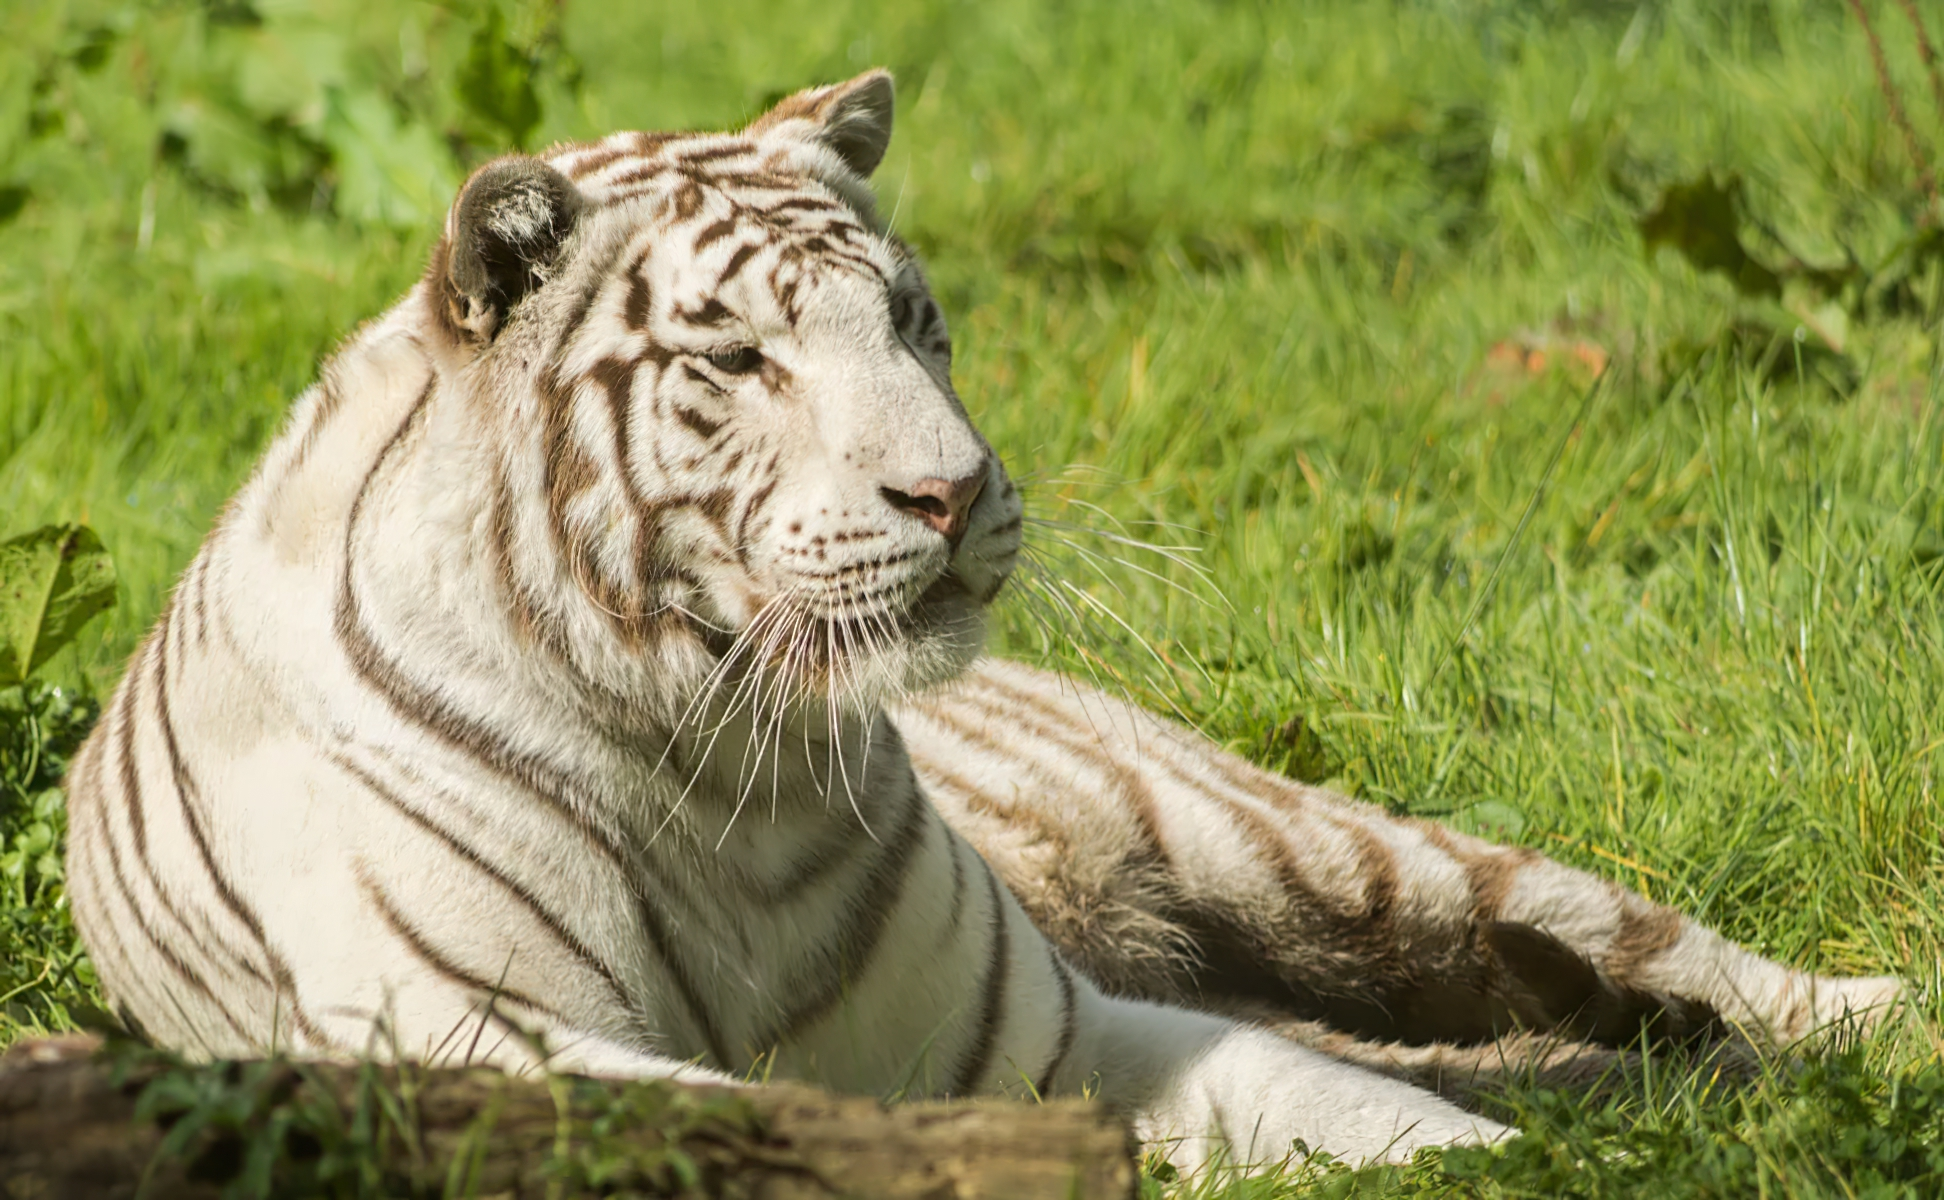tiger: (67, 100, 1937, 1172)
